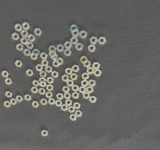nut: (80, 30, 88, 39), (90, 36, 98, 45), (98, 37, 107, 45), (75, 43, 84, 51), (64, 41, 73, 49), (64, 48, 72, 57), (80, 56, 89, 64), (15, 24, 23, 32), (22, 22, 30, 30), (34, 28, 42, 36), (21, 29, 29, 37), (12, 33, 20, 41), (20, 37, 28, 45), (16, 43, 24, 51), (40, 52, 48, 60), (70, 24, 78, 32), (88, 44, 96, 52), (57, 44, 65, 52), (84, 60, 92, 68), (93, 62, 101, 70), (87, 67, 95, 75), (94, 69, 102, 77), (72, 65, 80, 73), (70, 73, 78, 81), (82, 72, 90, 80), (79, 86, 87, 94), (75, 110, 83, 118), (70, 37, 79, 44), (1, 71, 10, 78), (28, 34, 35, 42), (72, 30, 80, 37), (49, 46, 57, 53), (49, 50, 57, 57), (51, 53, 59, 60), (57, 57, 64, 65), (53, 60, 60, 68), (41, 60, 49, 67), (15, 60, 23, 67), (5, 78, 13, 85), (36, 64, 43, 72), (45, 65, 52, 73), (39, 71, 47, 78), (26, 70, 34, 77), (65, 68, 73, 75), (82, 80, 89, 88), (89, 79, 96, 87), (87, 86, 94, 94), (83, 92, 91, 99), (89, 96, 97, 103), (72, 85, 80, 92), (47, 84, 54, 92), (5, 91, 13, 98), (25, 94, 32, 102), (38, 88, 46, 95), (46, 91, 53, 99), (40, 99, 48, 106), (48, 98, 56, 105), (64, 93, 72, 100), (72, 92, 80, 99), (55, 100, 63, 107), (65, 100, 73, 107), (74, 102, 81, 110), (61, 104, 68, 112), (27, 42, 34, 49), (24, 49, 31, 56), (33, 49, 40, 56), (31, 53, 38, 60), (52, 71, 59, 78), (62, 75, 69, 82), (67, 80, 74, 87), (47, 77, 54, 84), (33, 80, 40, 87), (40, 81, 47, 88), (4, 101, 11, 108), (32, 101, 39, 108), (63, 86, 70, 93), (57, 93, 64, 100), (68, 106, 75, 113), (70, 114, 77, 121), (41, 130, 48, 137), (39, 77, 47, 83), (16, 96, 24, 102), (31, 87, 39, 93), (10, 99, 17, 105)
